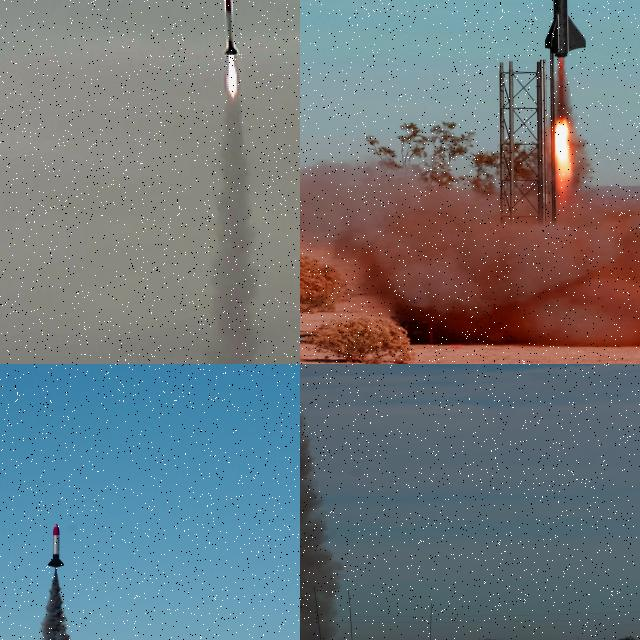Rocket: (543, 0, 588, 58), (223, 0, 237, 56), (48, 524, 64, 568)
